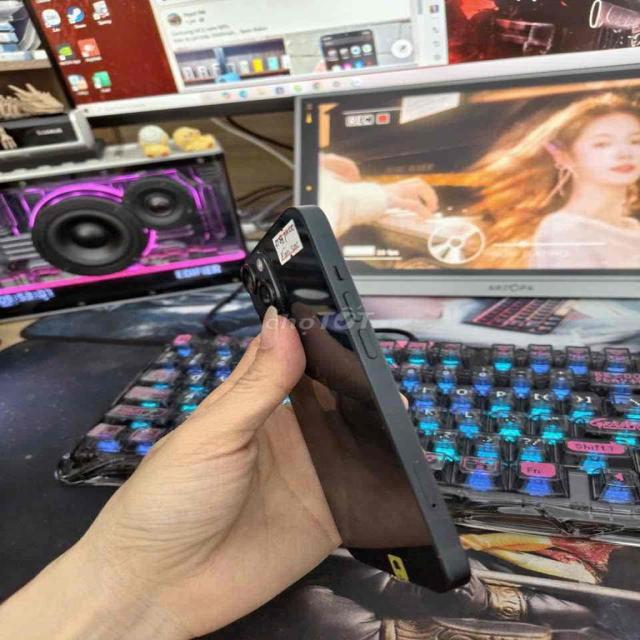gen_12_13: (228, 198, 484, 606)
